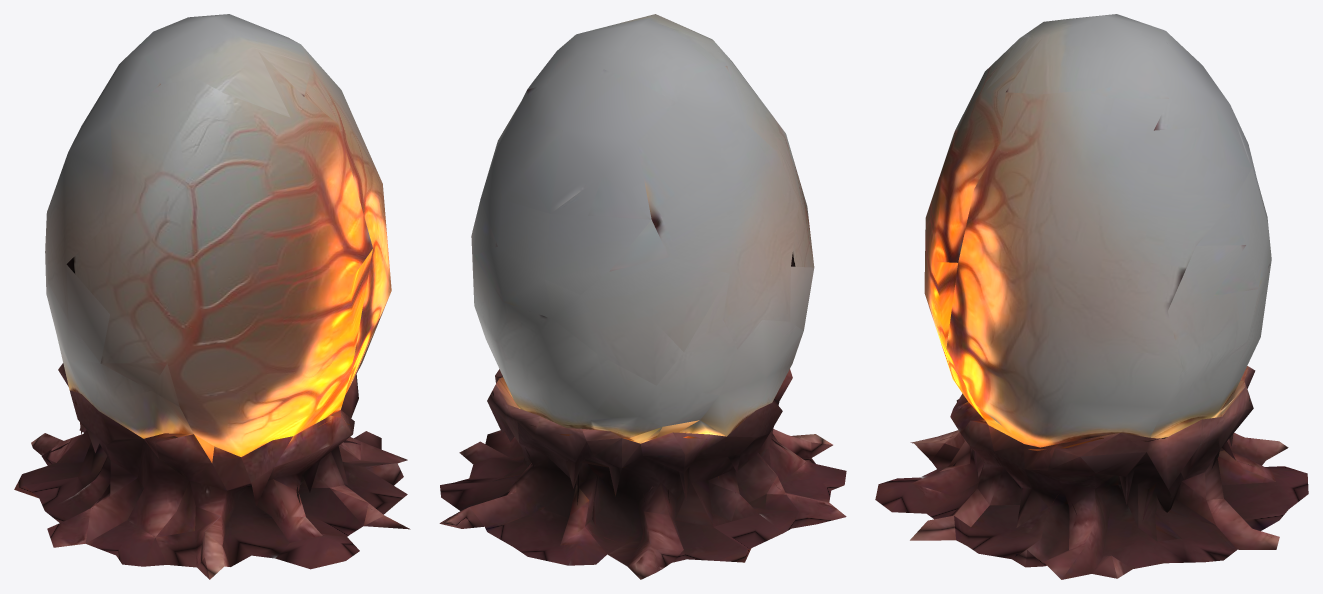
Rendered from enemy_egg.glb.
3 renders of one model, left to right at view 1: azimuth 30°, elevation 25°; view 2: azimuth 150°, elevation 25°; view 3: azimuth 270°, elevation 25°, orthographic. The views are drawn at different scales.
Visible parts, largest first — view 1: enemy_egg; view 2: enemy_egg; view 3: enemy_egg.
Part boxes in pixels (x1,y1,x2,y2): enemy_egg: (14,14,410,579); enemy_egg: (439,14,846,579); enemy_egg: (875,14,1308,579).
Bounding box in the file's own units: 0.7978 × 1 × 0.8202.
1 material, 1 textured.
